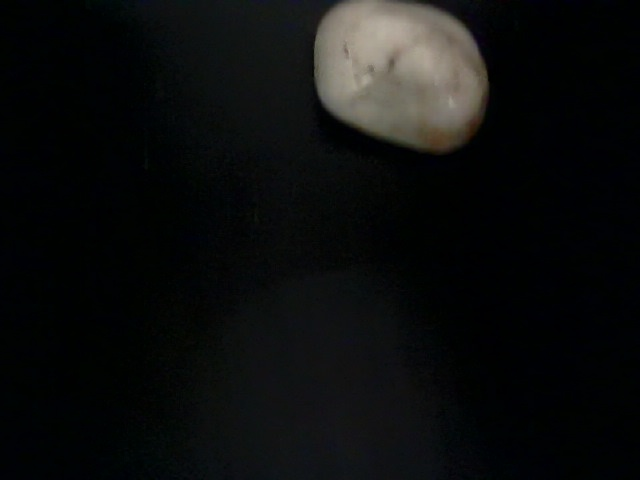QTLJ: (326, 1, 545, 311)
